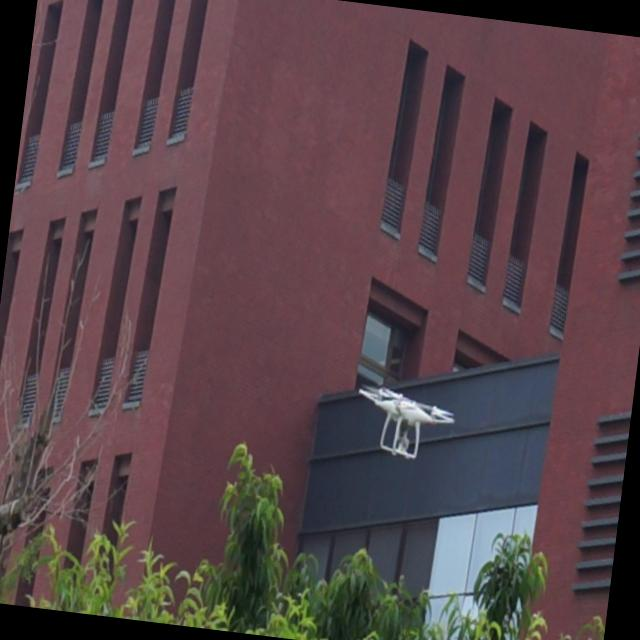drone: (350, 380, 460, 471)
